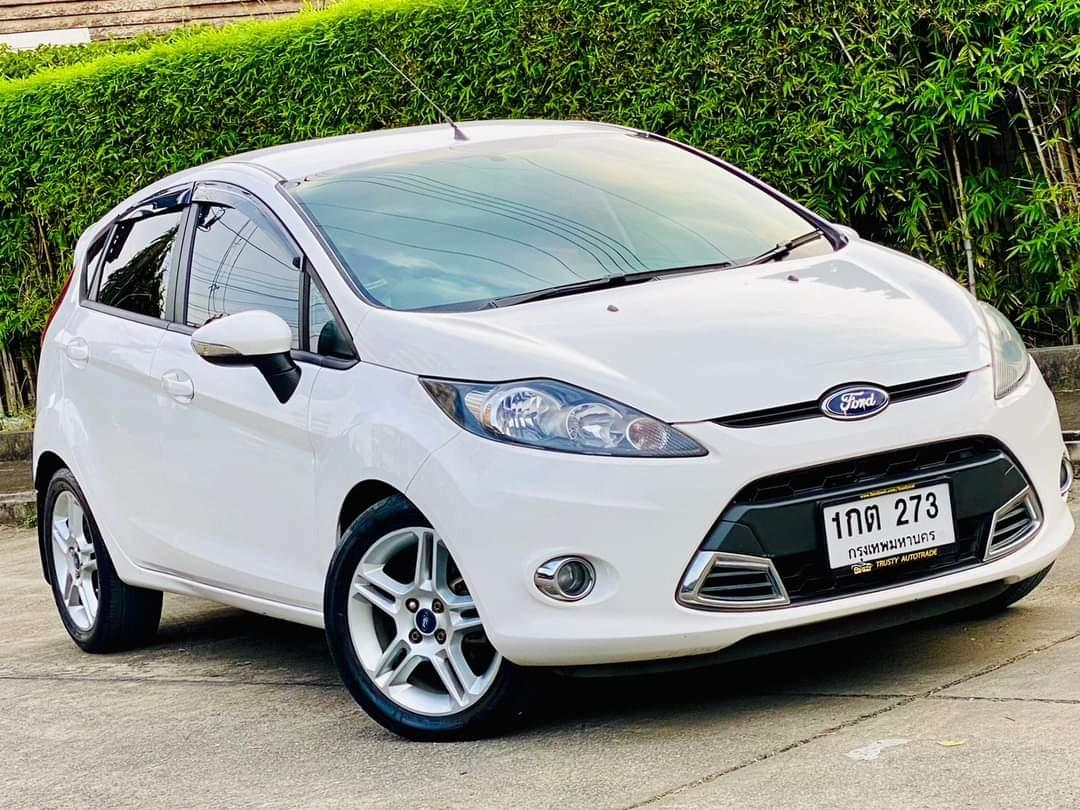license-plate: (820, 474, 961, 577)
